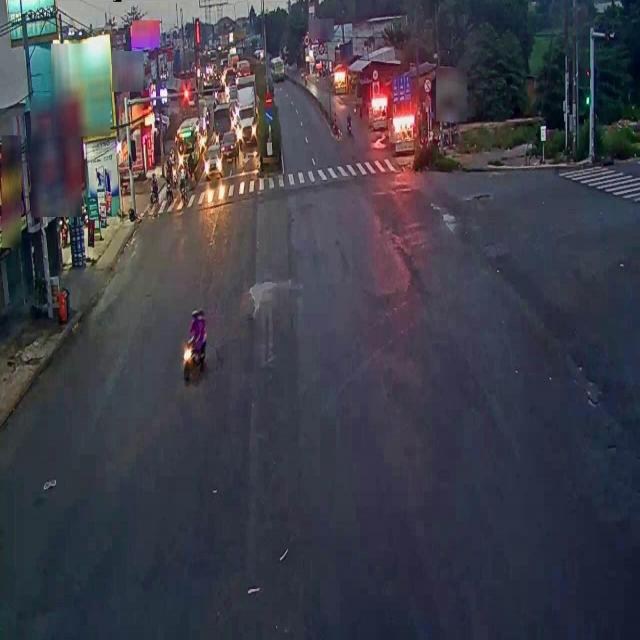motorcycle: (180, 302, 210, 382)
